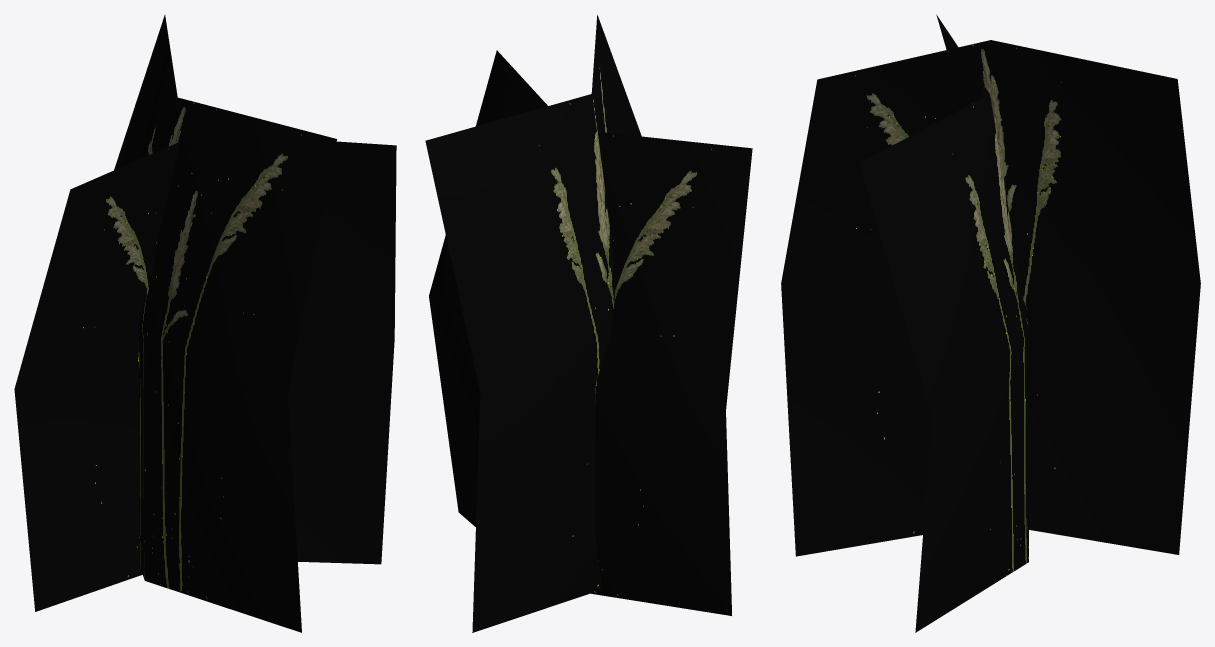
File: TallGrassWoods.fbx
3 views of the same model, side by side, from view 1: azimuth 30°, elevation 25°; view 2: azimuth 150°, elevation 25°; view 3: azimuth 270°, elevation 25° (orthographic). The views are drawn at different scales.
Visible parts, largest first — view 1: TallGrassWoods_LOD0; view 2: TallGrassWoods_LOD0; view 3: TallGrassWoods_LOD0.
Boxes of the visible parts, x1,y1,x2,y2 form: TallGrassWoods_LOD0: [14, 15, 396, 632]; TallGrassWoods_LOD0: [425, 15, 752, 632]; TallGrassWoods_LOD0: [781, 14, 1200, 632].
Bounding box in the file's own units: 79.7 × 109 × 81.62.
